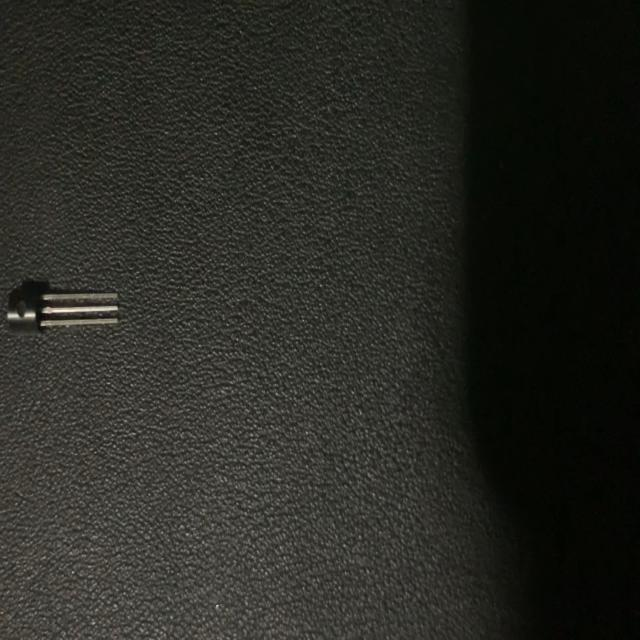BJT: (4, 278, 124, 336)
